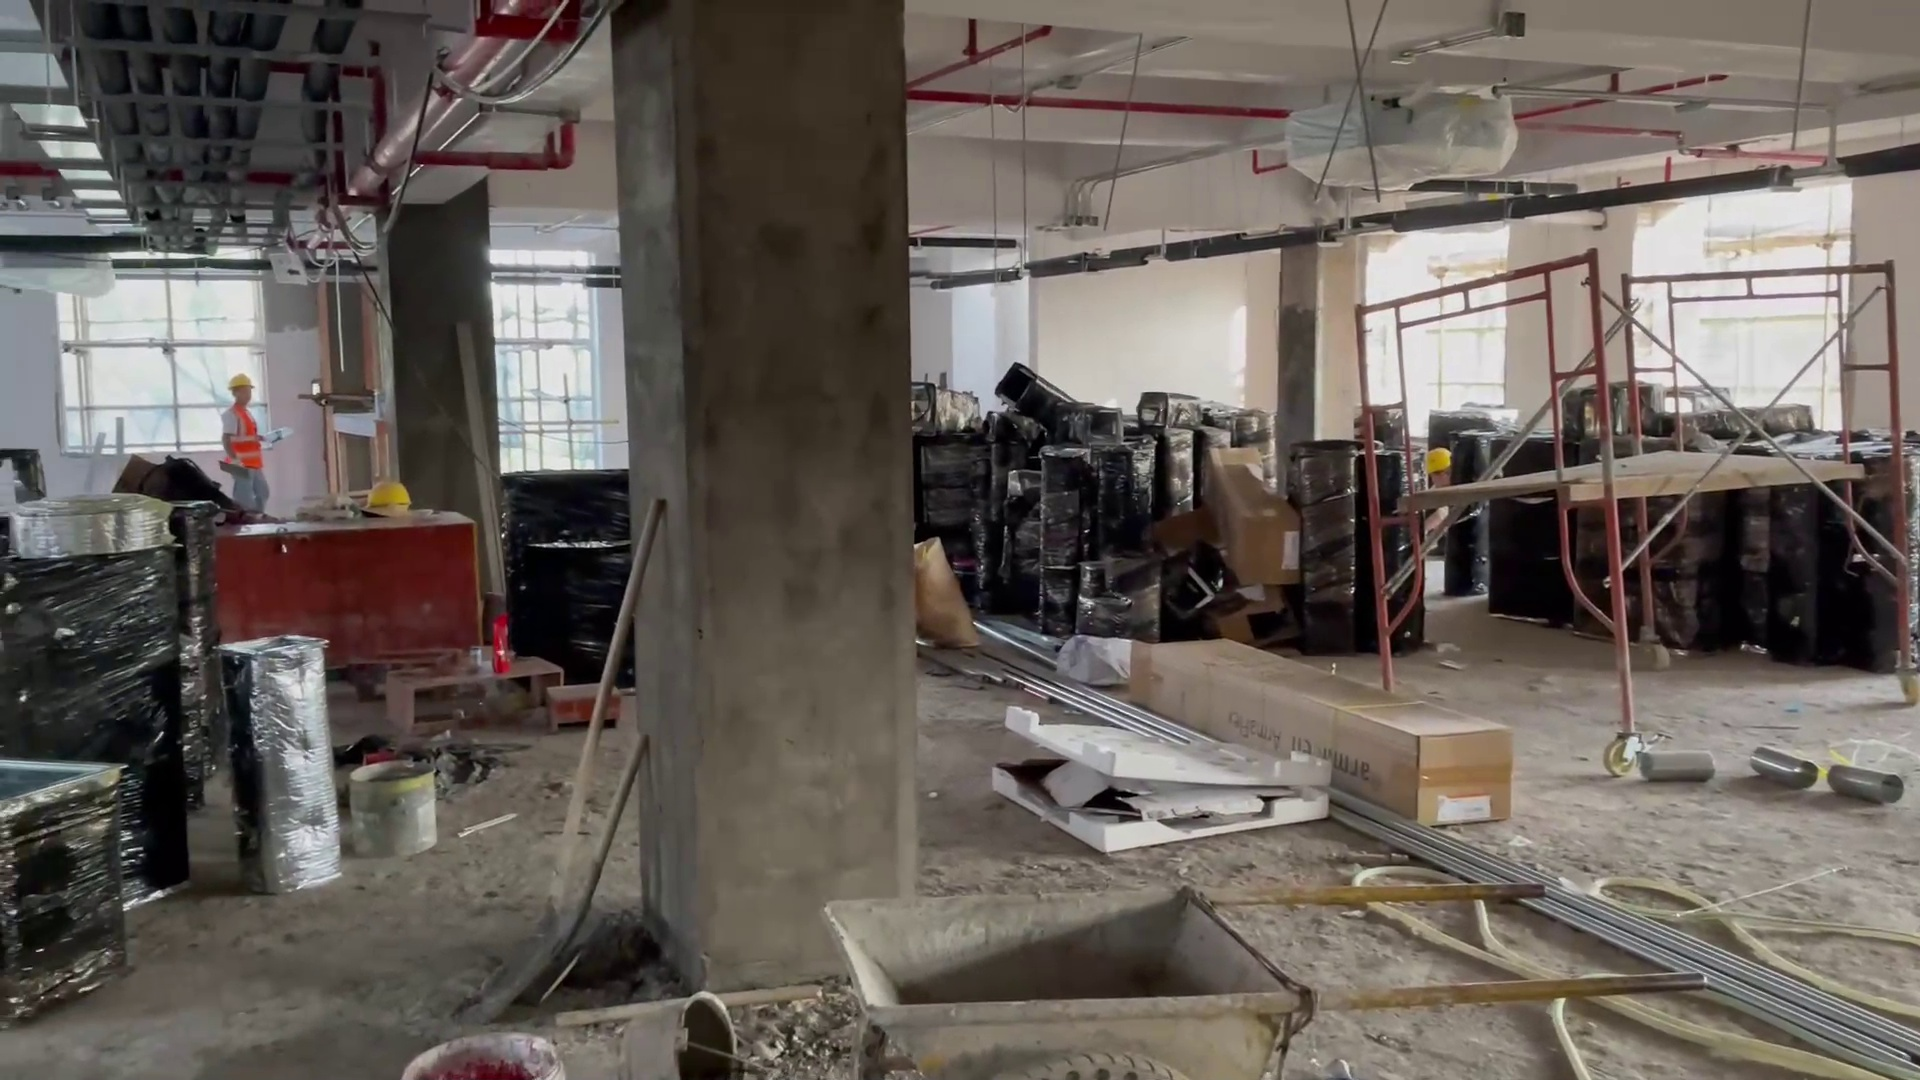handcart: (780, 862, 1702, 1080)
helmet: (364, 475, 415, 510), (224, 369, 265, 391), (1424, 448, 1457, 474)
person: (209, 367, 294, 520), (1415, 445, 1461, 530)
vest: (226, 407, 269, 480)
